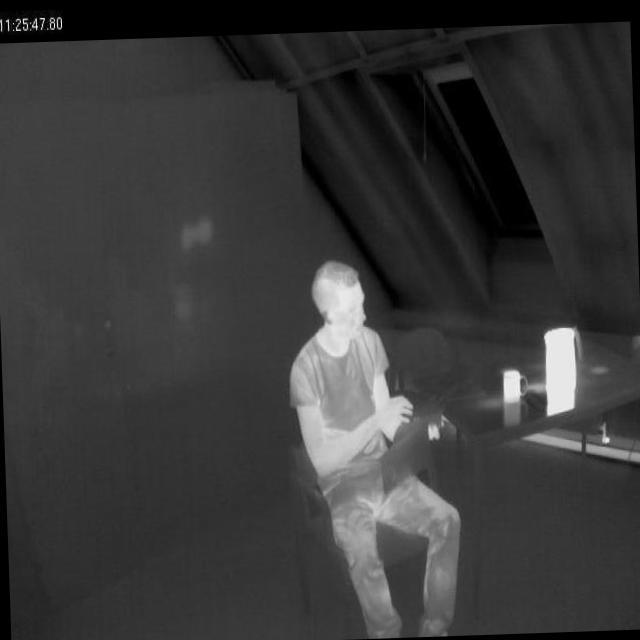person: (283, 255, 444, 640)
